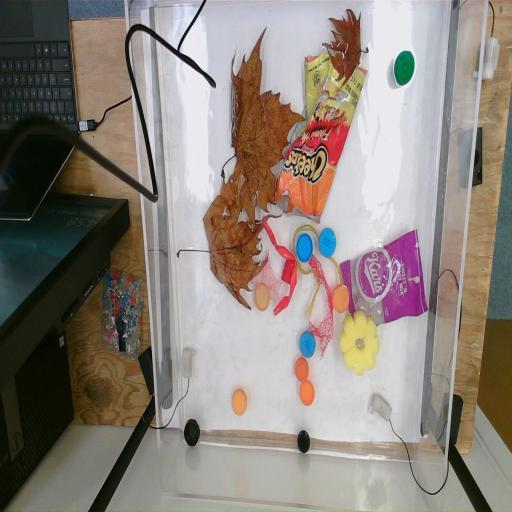Bottle Cap: (395, 51, 415, 86), (319, 226, 338, 260), (332, 284, 350, 313), (296, 233, 313, 263), (254, 282, 270, 312), (299, 330, 316, 358), (184, 418, 200, 447), (232, 388, 248, 416), (299, 380, 315, 406), (294, 357, 309, 382), (296, 430, 310, 454)
Cone Cap: (282, 259, 295, 284)
Leaf: (221, 28, 307, 212), (175, 176, 269, 315), (322, 8, 368, 92)
Netting: (308, 252, 334, 358), (249, 251, 281, 307)
Plastic Bag: (273, 54, 368, 222), (342, 229, 428, 332)
Plastic Strand: (292, 222, 346, 318), (262, 215, 298, 317)
Sponge: (340, 310, 380, 378)
